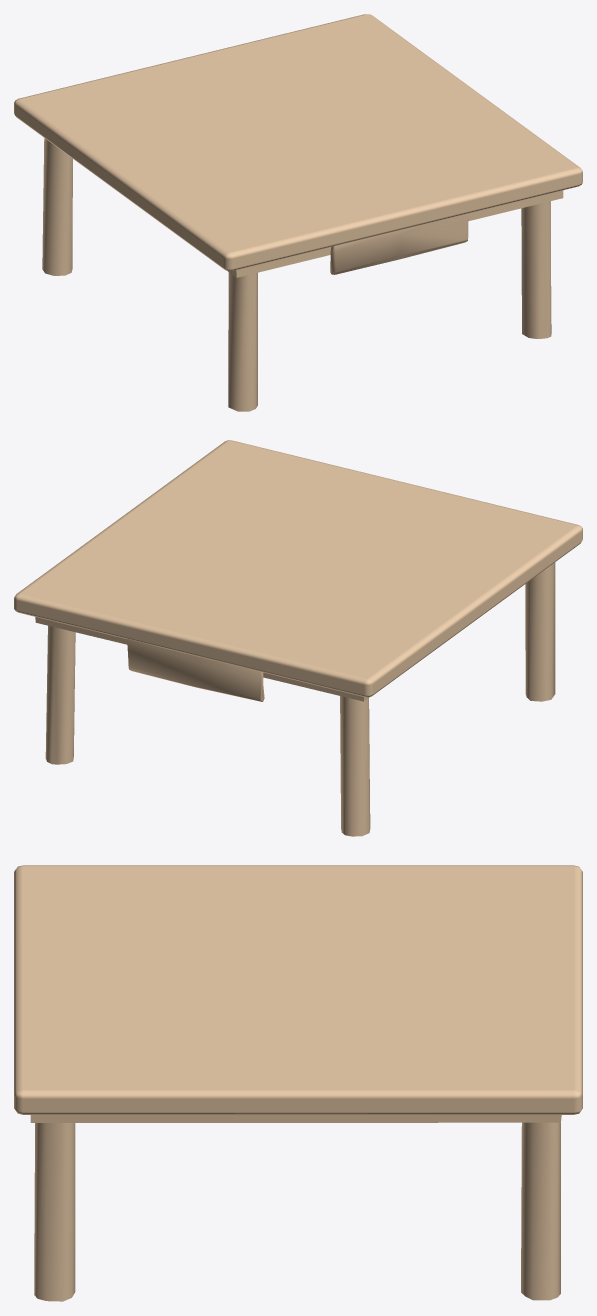
File: dining_table.glb
3 views of the same model, one above another, from view 1: azimuth 30°, elevation 25°; view 2: azimuth 150°, elevation 25°; view 3: azimuth 270°, elevation 25° (orthographic). The views are drawn at different scales.
Bounding box in the file's own units: 2.3 × 1.03 × 2.4.
